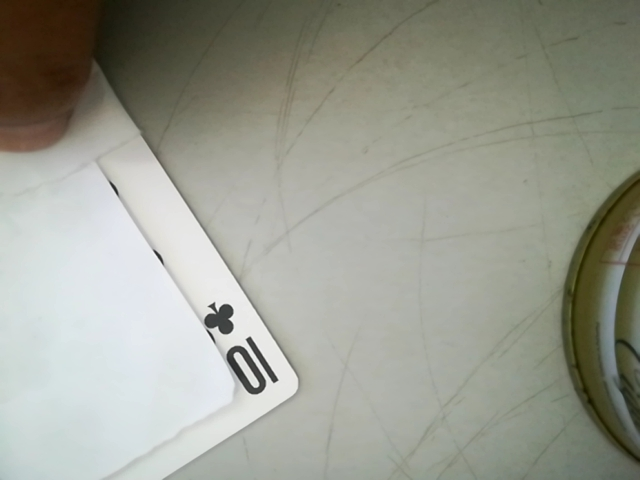mh 10: (192, 292, 278, 407)
